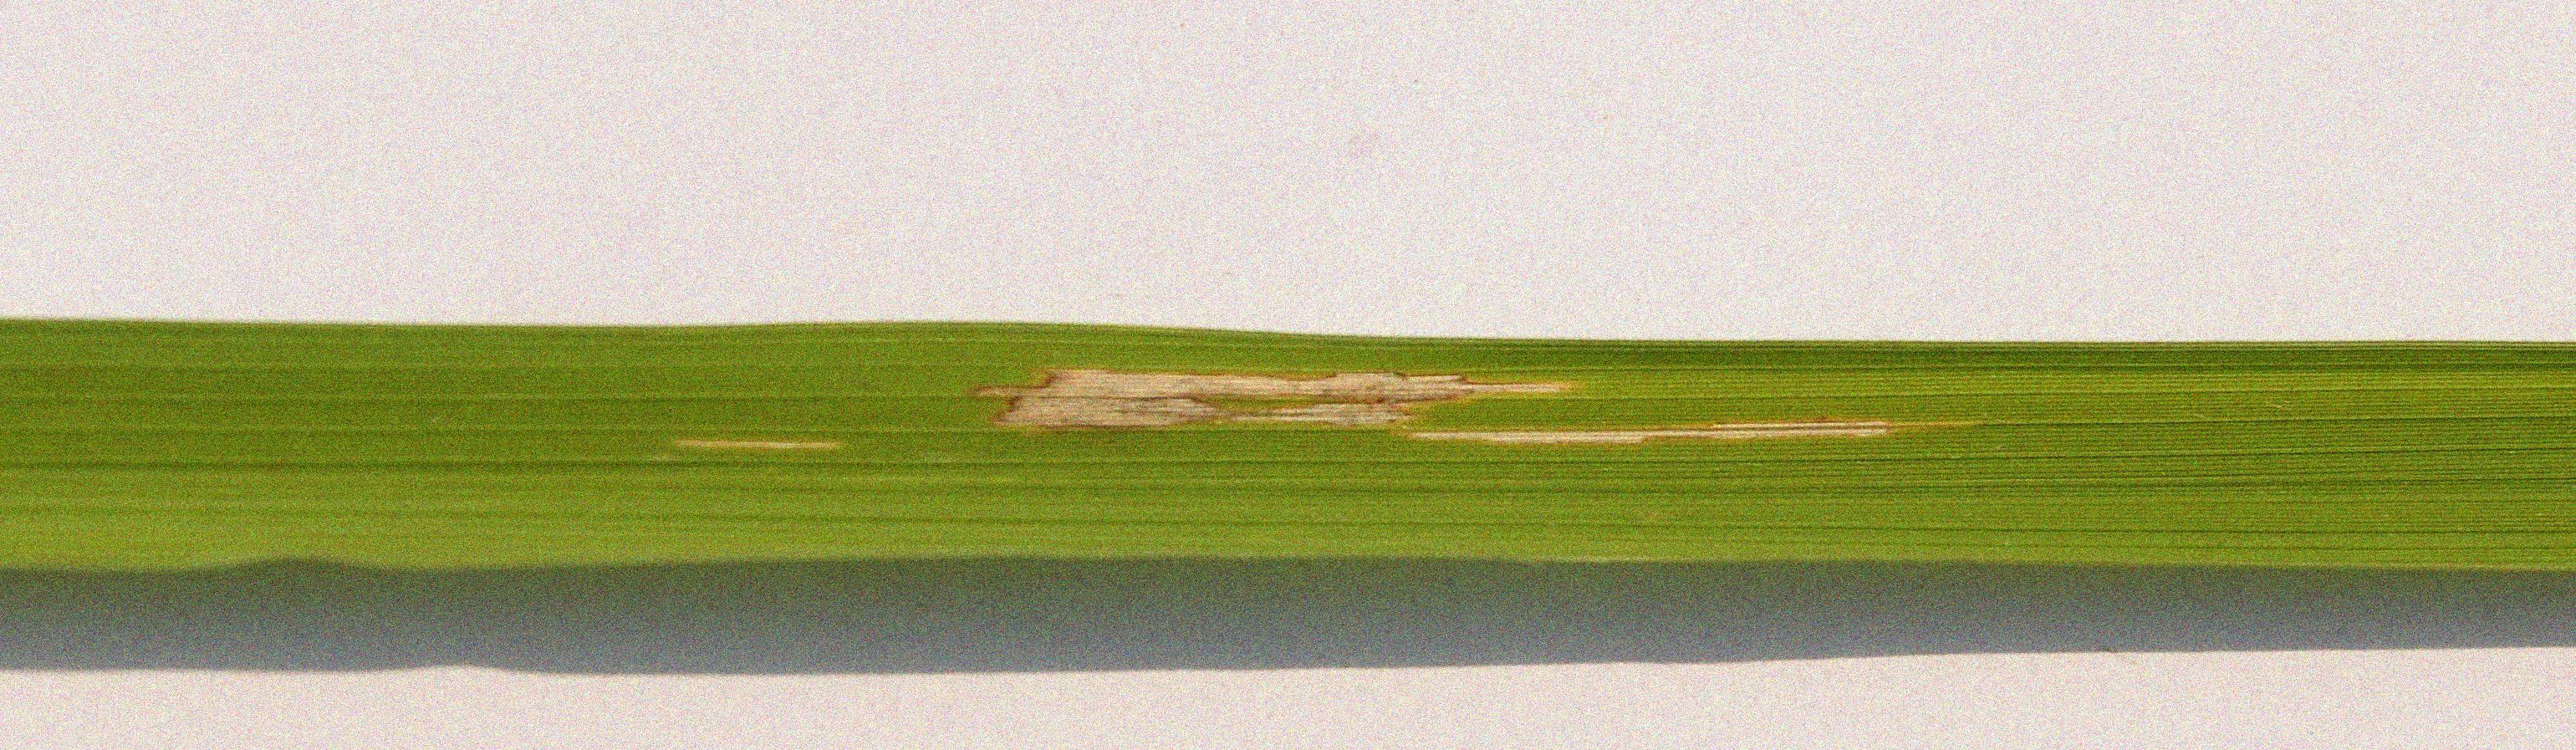bacterial_leaf_blight: (651, 335, 2009, 489)
